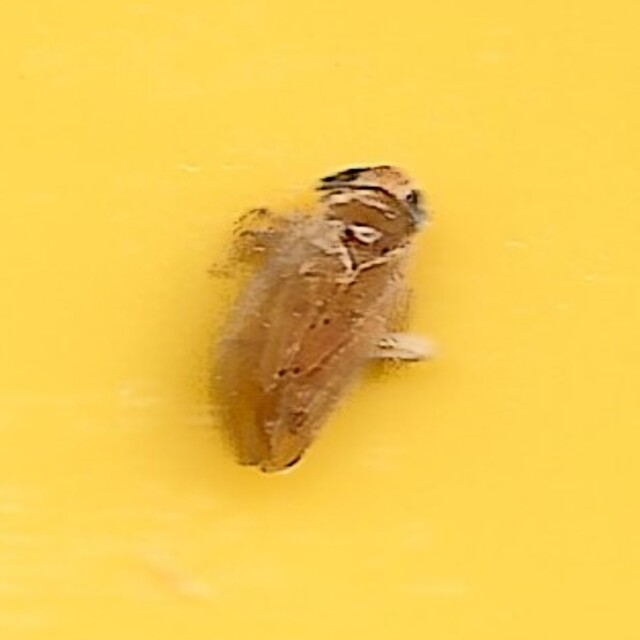Hemiptera: (204, 161, 436, 479)
